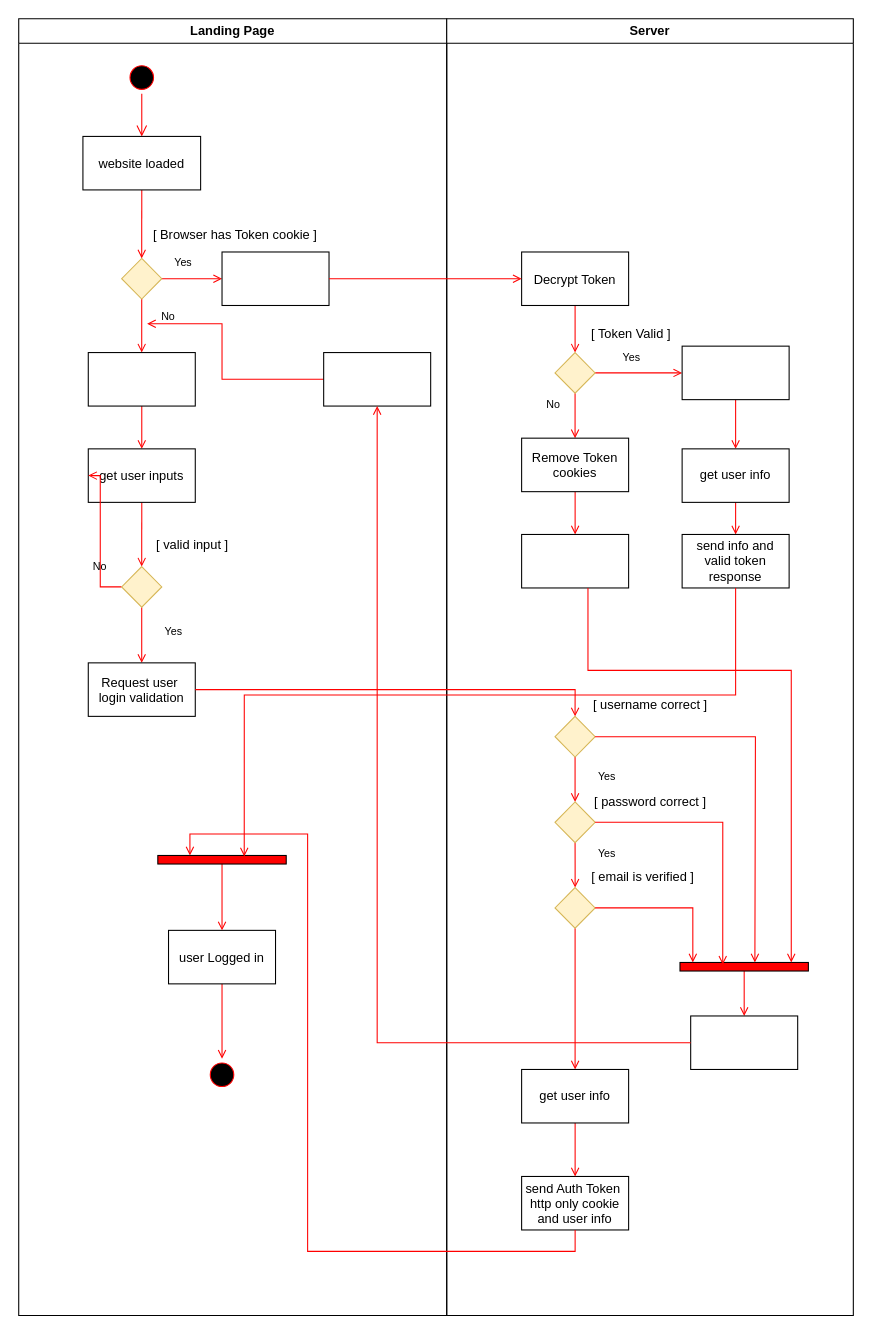
The diagram is 872 pixels wide and 1334 high, and some of its shapes have lost their labels. The centre of each missing label's shape, as x and y in pixels:
"Check Token Validity" goes at point 275,278.
"Extract claims" goes at point 735,372.
"log out and update state if needed" goes at point 377,378.
"Login using credentials" goes at point 141,378.
"send login failed response" goes at point 744,1042.
"send token not valid response" goes at point 575,560.
